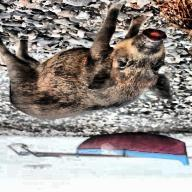boar: (0, 4, 171, 121)
